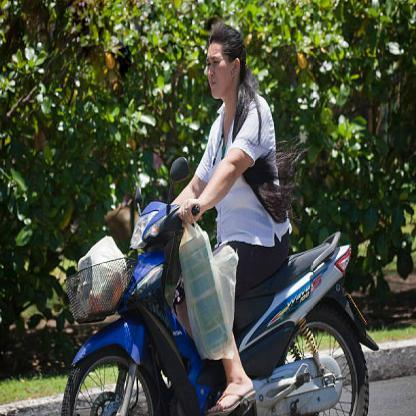Motorcycle: (64, 185, 381, 415)
